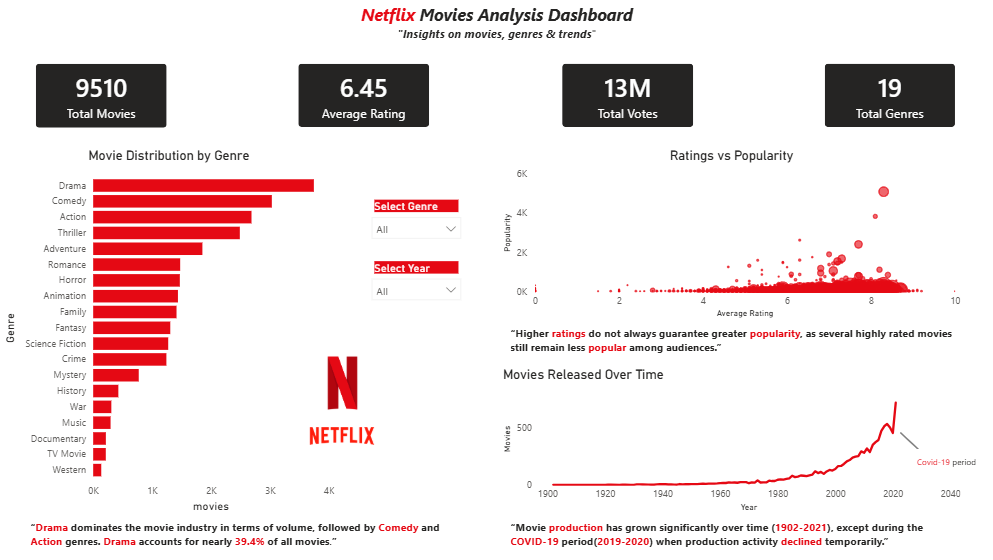

This screenshot's page, from the dashboard's own definition file:
{"tool":"powerbi","page":{"name":"Page 1","canvas":[1280,720],"ordinal":0},"visuals":[{"type":"textbox","box":[10,0,280,280],"z":0},{"type":"clusteredBarChart","title":"Movie Distribution by Genre","fields":{"Category":["netflix_cleaned.Genre"],"Y":["CountNonNull(netflix_cleaned.Title)"]},"box":[1.9,190.7,441.2,472.1],"z":1000},{"type":"textbox","box":[456,0,368,70.1],"z":2000},{"type":"cardVisual","fields":{"Data":["netflix_cleaned.Total Movies"]},"box":[36.2,70.8,192.6,107],"z":3000},{"type":"lineChart","title":"Movies Released Over Time","fields":{"Category":["netflix_cleaned.Year"],"Y":["netflix_cleaned.Movies Per Year"]},"box":[644.4,472.4,597.5,190.8],"z":4000},{"type":"scatterChart","title":"Ratings vs Popularity","fields":{"X":["netflix_cleaned.Unique Rating"],"Category":["netflix_cleaned.Title"],"Y":["netflix_cleaned.Unique Popularity"],"Size":["netflix_cleaned.Unique Vote Count"]},"box":[643.5,190.7,599.2,223.5],"z":5000},{"type":"cardVisual","fields":{"Data":["netflix_cleaned.Total Votes"]},"box":[712.1,70.8,192.6,105.3],"z":6000},{"type":"cardVisual","fields":{"Data":["netflix_cleaned.Average Rating"]},"box":[374.2,70.8,192.6,105.3],"z":7000},{"type":"cardVisual","fields":{"Data":["netflix_cleaned.Total Genres"]},"box":[1050.4,70.7,191.2,105.3],"z":8000},{"type":"image","box":[398.9,525.6,86,70.4],"z":9000},{"type":"image","box":[389.5,456.7,106.4,73.5],"z":10000},{"type":"slicer","title":"Select Genre","fields":{"Values":["netflix_cleaned.Genre"]},"box":[471.1,253,134.3,78.5],"z":11000},{"type":"slicer","fields":{"Values":["netflix_cleaned.Year"]},"box":[471.1,331.5,134.3,62.8],"z":12000},{"type":"textbox","box":[36,663.2,550.6,56.3],"z":12001},{"type":"textbox","box":[652.3,414.5,580.3,57.9],"z":12002},{"type":"textbox","box":[652.3,663.2,580.3,51.6],"z":12003},{"type":"shape","box":[1157.5,530.2,29.7,79.8],"z":12004},{"type":"textbox","box":[1174.7,577.2,104.8,37.5],"z":12005}]}

Visuals, with their boxes in screenshot pixels (x1, y1, x2, y2), scaled from the page's 1280x720 canvas onto the 993x560 screenshot:
textbox: Rect(8, 0, 225, 218)
"Movie Distribution by Genre" clusteredBarChart: Rect(1, 148, 344, 516)
textbox: Rect(354, 0, 639, 55)
cardVisual - netflix_cleaned.Total Movies: Rect(28, 55, 177, 138)
"Movies Released Over Time" lineChart: Rect(500, 367, 963, 516)
"Ratings vs Popularity" scatterChart: Rect(499, 148, 964, 322)
cardVisual - netflix_cleaned.Total Votes: Rect(552, 55, 702, 137)
cardVisual - netflix_cleaned.Average Rating: Rect(290, 55, 440, 137)
cardVisual - netflix_cleaned.Total Genres: Rect(815, 55, 963, 137)
image: Rect(309, 409, 376, 464)
image: Rect(302, 355, 385, 412)
"Select Genre" slicer: Rect(365, 197, 470, 258)
slicer - netflix_cleaned.Year: Rect(365, 258, 470, 307)
textbox: Rect(28, 516, 455, 559)
textbox: Rect(506, 322, 956, 367)
textbox: Rect(506, 516, 956, 556)
shape: Rect(898, 412, 921, 474)
textbox: Rect(911, 449, 992, 478)
